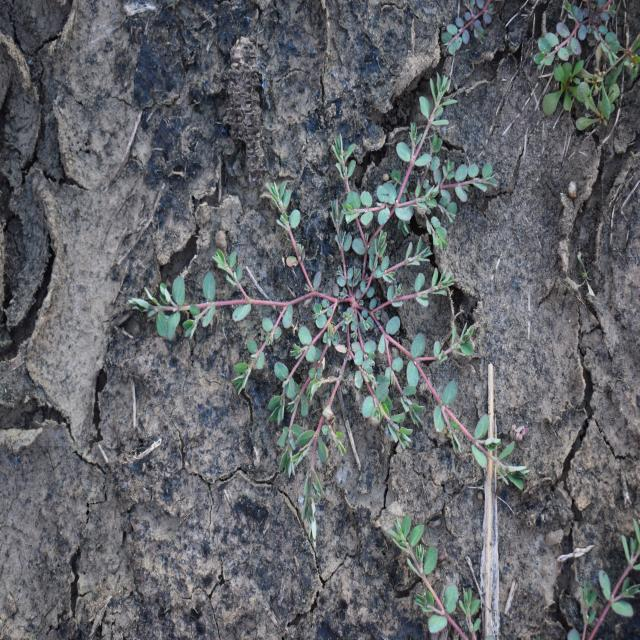Carpetweed: (539, 63, 621, 135)
SpottedSpurge: (126, 70, 532, 552), (379, 518, 639, 638), (530, 1, 622, 73), (439, 1, 498, 56)
